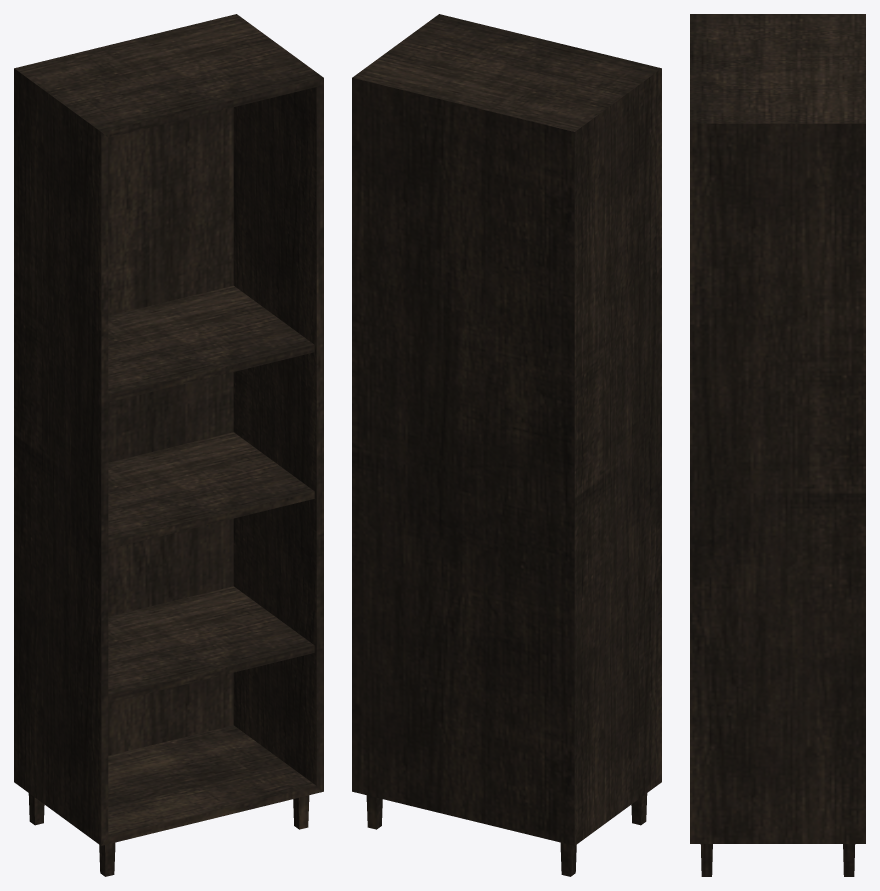
File: shelf_mp_1_2.obj
3 views of the same model, side by side, from view 1: azimuth 30°, elevation 25°; view 2: azimuth 150°, elevation 25°; view 3: azimuth 270°, elevation 25° (orthographic).
Visible parts, largest first — view 1: shelf_mp_1_2; view 2: shelf_mp_1_2; view 3: shelf_mp_1_2.
Part boxes in pixels (box(x1,y1,x2,y2)): shelf_mp_1_2: box(14, 14, 323, 876); shelf_mp_1_2: box(352, 14, 661, 876); shelf_mp_1_2: box(690, 14, 865, 876).
Size of the model in its own units: 0.62 by 2 by 0.42.
